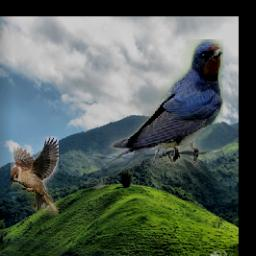Sparrow: (11, 137, 59, 217)
Swallow: (87, 39, 222, 189)
